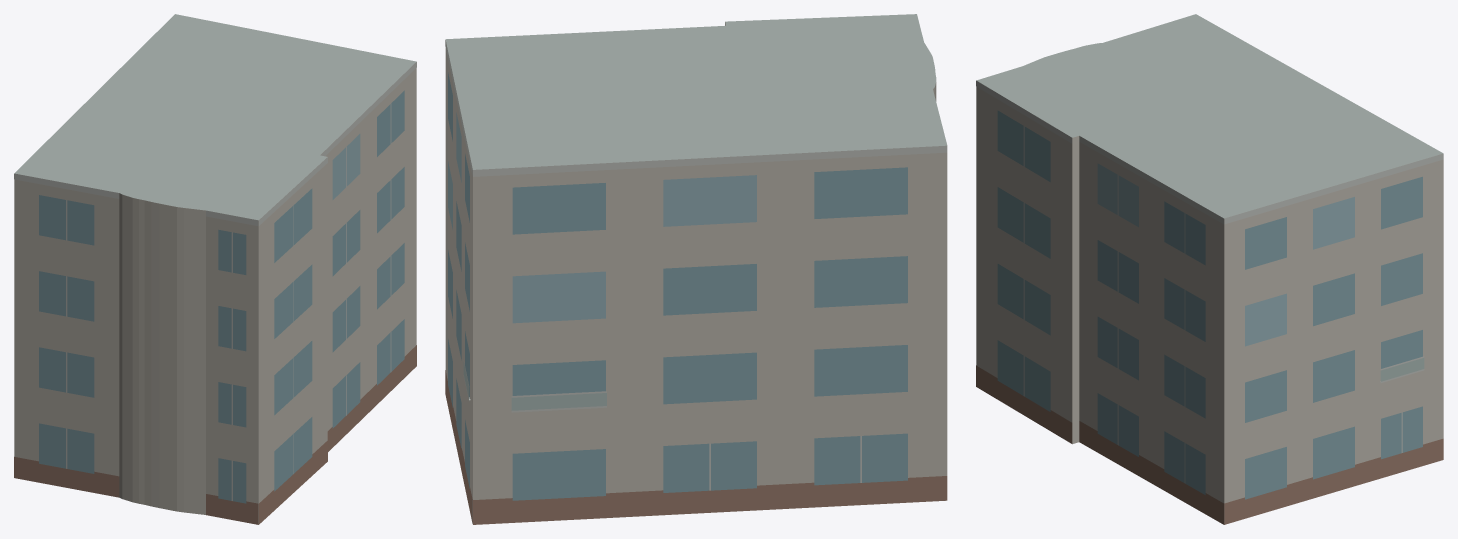
Rendered from survey-upis-32782125.glb.
The picture shows the model from 3 angles, left to right: view 1: azimuth 30°, elevation 25°; view 2: azimuth 150°, elevation 25°; view 3: azimuth 270°, elevation 25°; orthographic projection. The views are drawn at different scales.
Visible parts, largest first — view 1: survey-upis-32782125.tmp; view 2: survey-upis-32782125.tmp; view 3: survey-upis-32782125.tmp.
Boxes of the visible parts, x1,y1,x2,y2 form: survey-upis-32782125.tmp: (14,14,416,524); survey-upis-32782125.tmp: (445,14,947,524); survey-upis-32782125.tmp: (976,14,1443,524).
Bounding box in the file's own units: 17.9 × 12.5 × 17.29.
